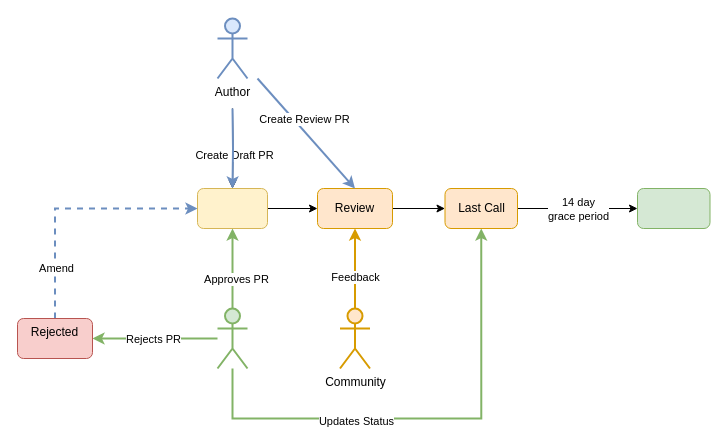
This 728x444 diagram has some shape labels left out. Here are the shapes that lost their labels. From the top down, the box of each, then its label:
(196, 188, 268, 228): Draft
(636, 188, 710, 228): Final
(216, 307, 248, 369): Editor
